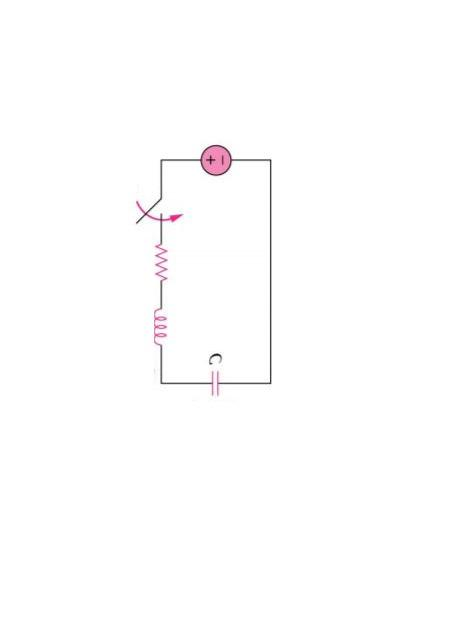resistor: (142, 226, 177, 288)
